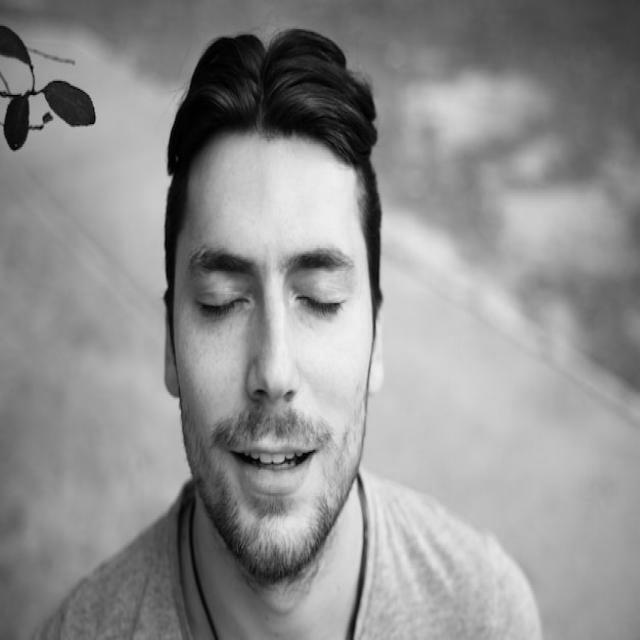real: (161, 134, 386, 574), (176, 230, 361, 353)
